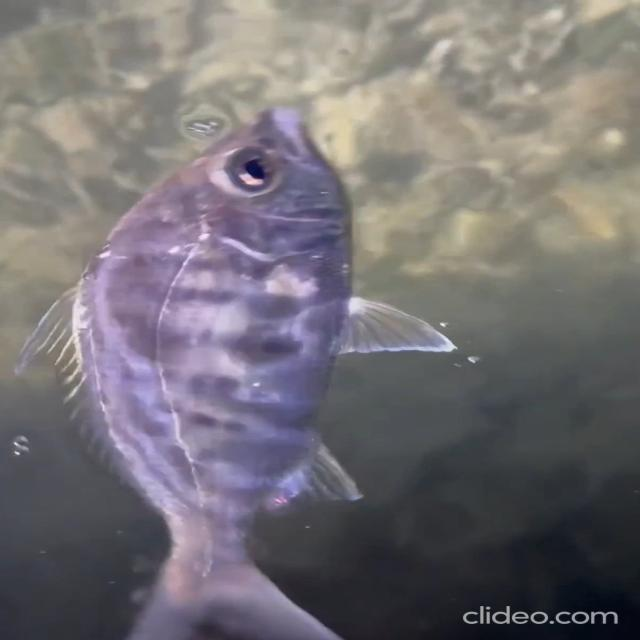fish: (6, 71, 464, 640)
